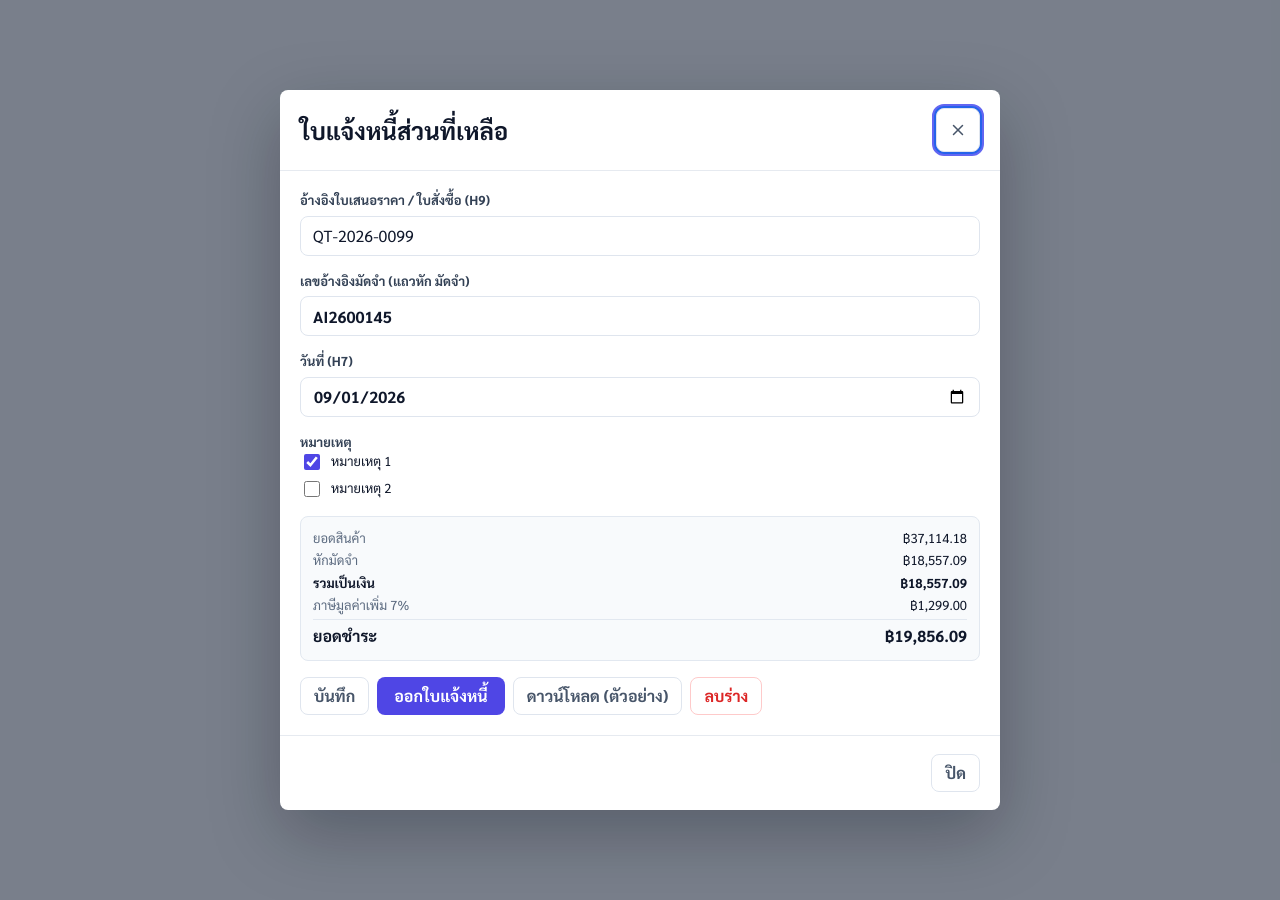
Test: RemainingInvoiceDialog — a live DRAFT exists › W4-07 confirm before issuing › a failed preview refetch shows an error line instead of amounts and leaves confirm enabled
The image size is (1280, 900).
Expected: the element with test id "remaining-invoice-draft-editor" is shown, left=300, top=191, right=980, bottom=715
Click the button with test id "remaining-invoice-issue". click: (441, 696)
box: left=377, top=677, right=505, bottom=715
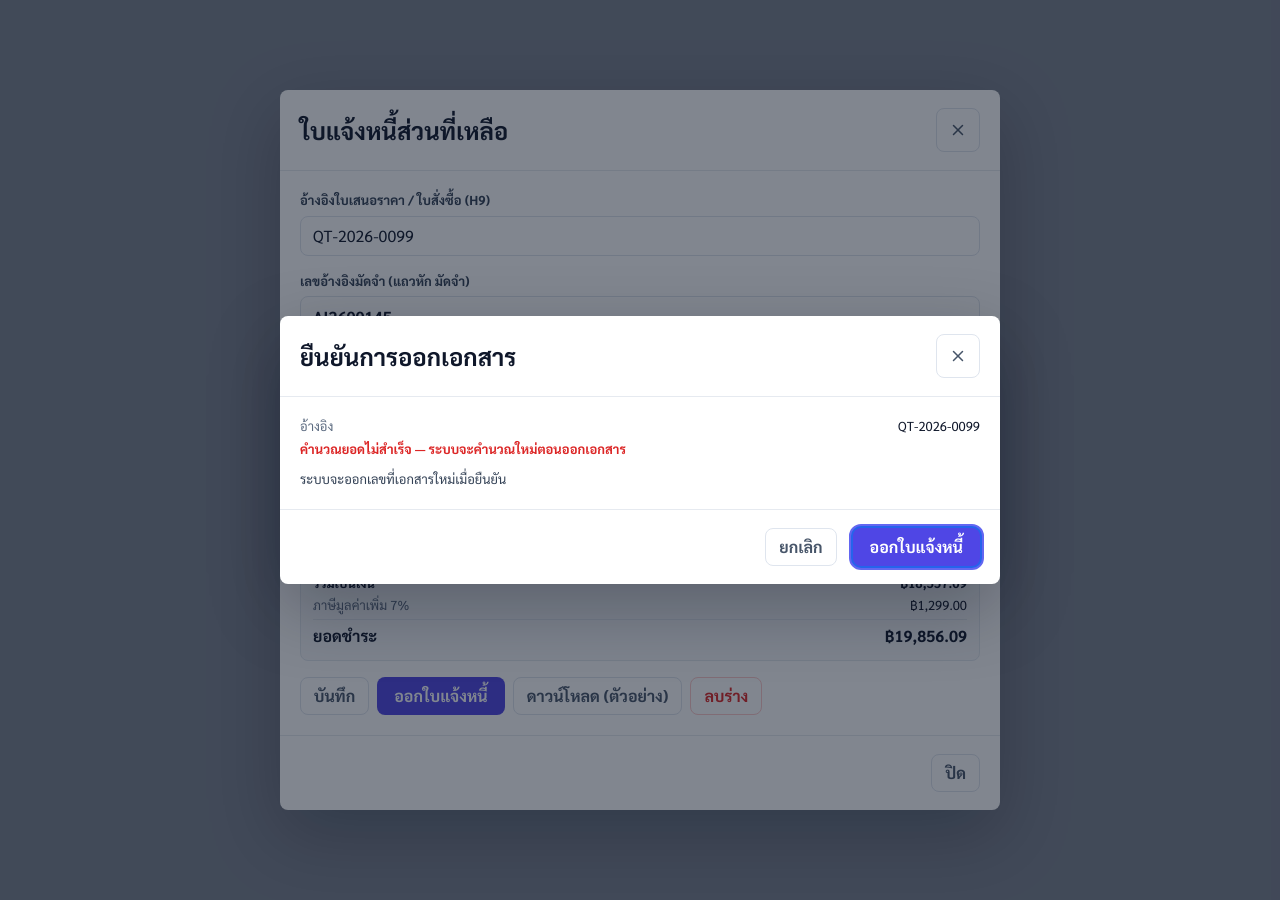
Expected: the dialog "ยืนยันการออกเอกสาร" does not show "฿19,856.09"
Result: the dialog "ยืนยันการออกเอกสาร" shows "คำนวณยอดไม่สำเร็จ" at left=300, top=440, right=626, bottom=457
Result: the button "ออกใบแจ้งหนี้" is enabled at left=853, top=528, right=980, bottom=566
